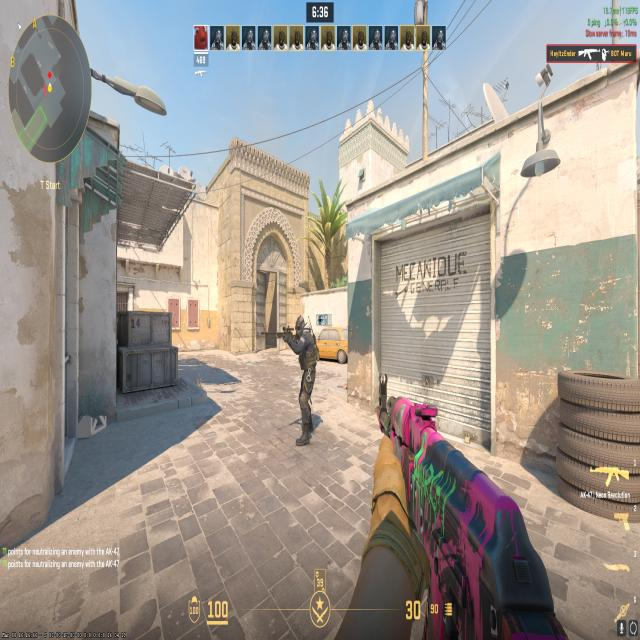ct: (282, 310, 317, 450)
